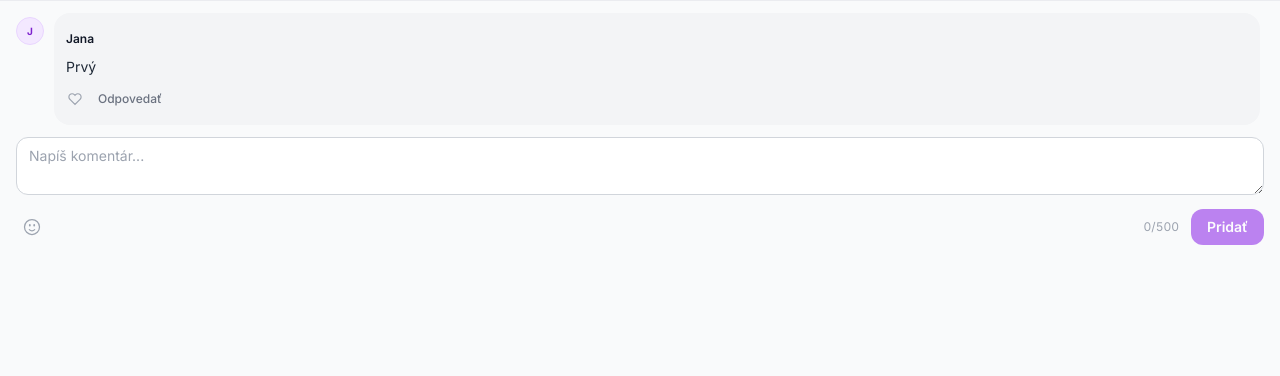
it: FeedPostComments – scoped infinite scroll › keeps the emoji button in both comment fields on desktop
The image size is (1280, 376).
Expected: the text "Prvý" is shown, [66,58,96,75]
Expected: the number of buttons named "Pridať emoji" is 1, [16,209,48,245]
What coordinates should you click on to do the following:
click the button with test id "feed-comment-reply-1"
I would click on:
 (130, 99)
Its box is [92,81,168,117].
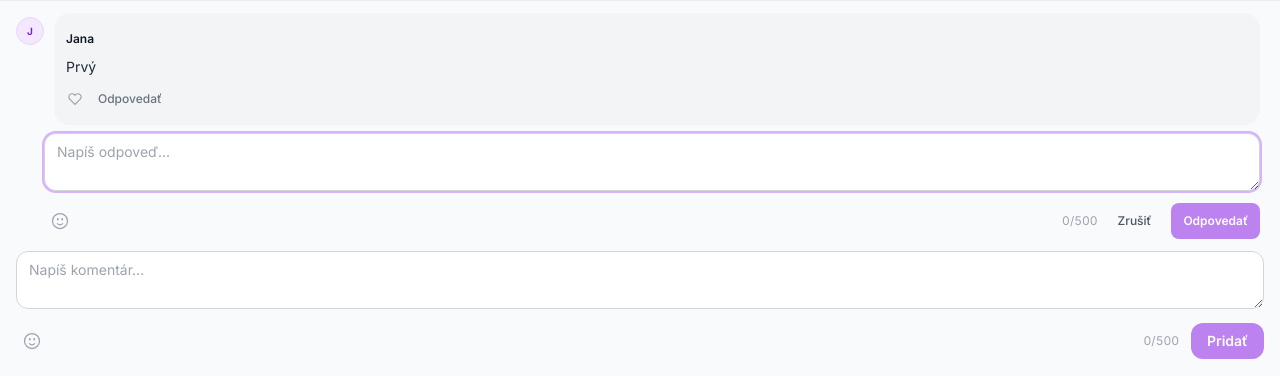
Expected: the element with test id "feed-reply-composer" is shown, [44,133,1260,239]
Expected: the number of buttons named "Pridať emoji" is 2, [44,203,76,239]; [16,323,48,359]
